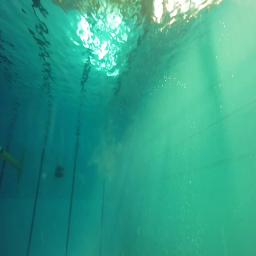Full: (54, 170, 65, 178)
